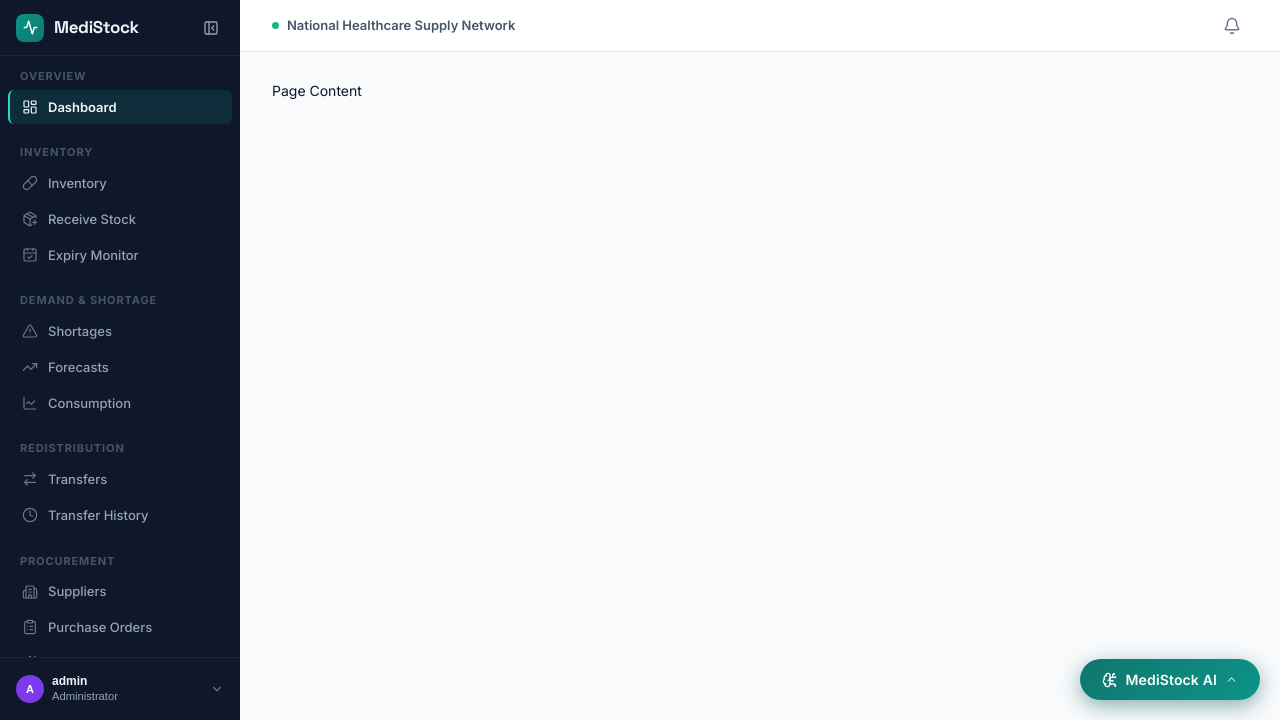
Test: DashboardLayout Global Navigation Sidebar › distinguishes administrator scope from personal unassigned facility
Click the button named "User menu" at (120,689), box [8,670,232,708]
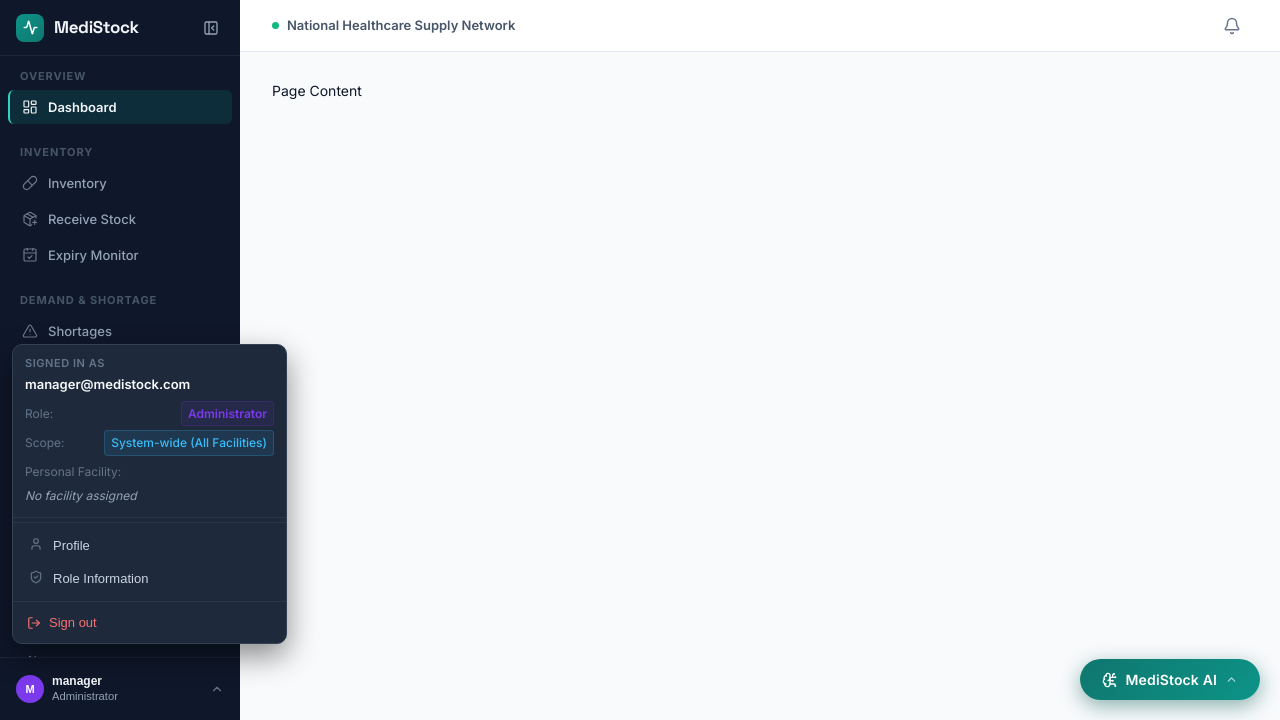
Check: the menu is shown, box [12,344,287,644]
Check: the text "admin@medistock.com" is shown, box [25,376,190,392]
Check: the text "Administrator" next to "Role:" is shown, box [188,406,267,421]
